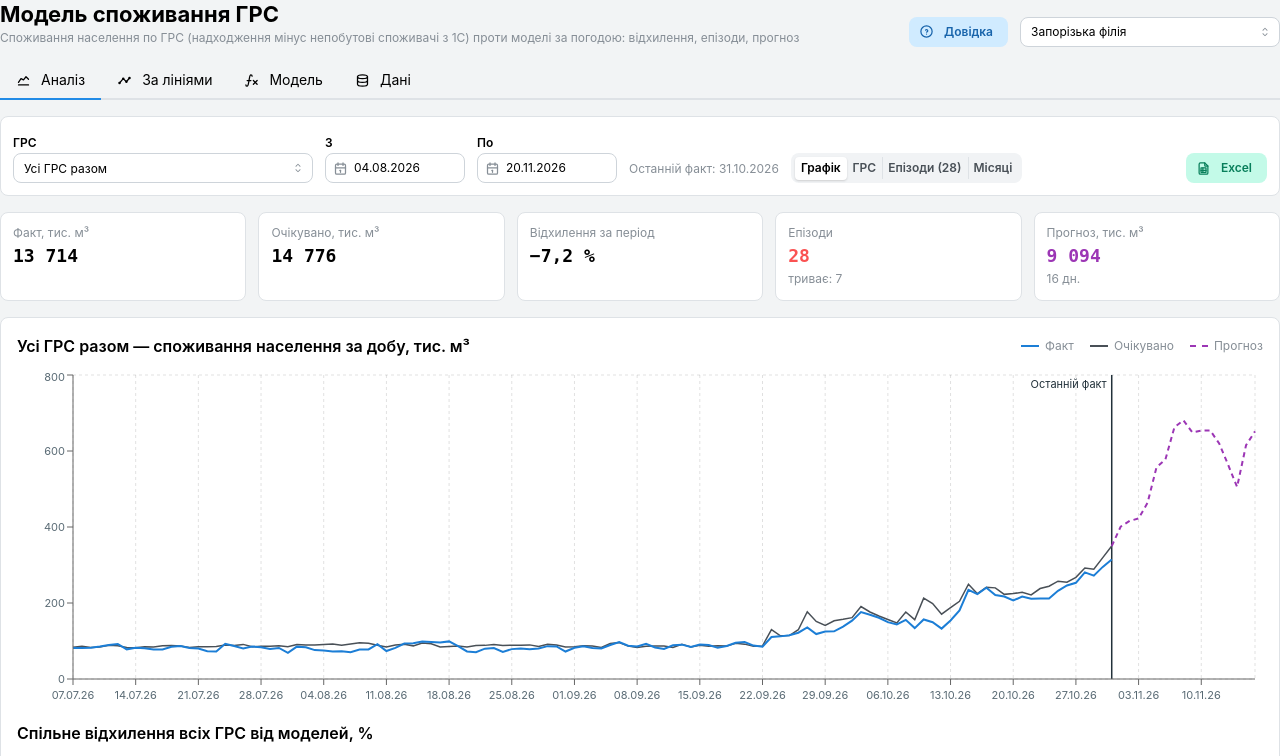
Test: GrsModelPage › data tab shows the uploads and stations; a viewer gets no upload
Step 1. Click the tab "Дані" → (383, 81), box x1=339 y1=63 x2=427 y2=100
(page scrolled)
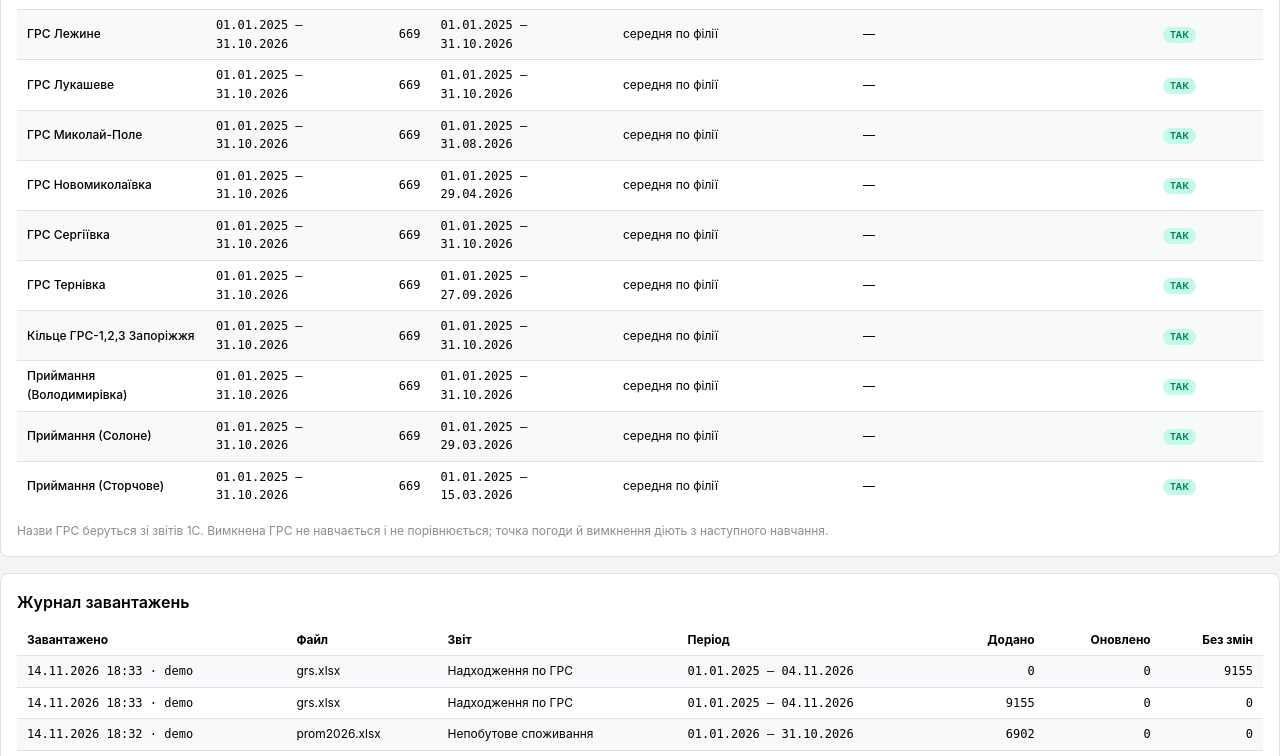
expect the text "Журнал завантажень" is shown: met, box x1=17 y1=592 x2=190 y2=612
expect the text "grs.xlsx" is shown 2 times: met, box x1=286 y1=656 x2=438 y2=687; x1=286 y1=687 x2=438 y2=719
